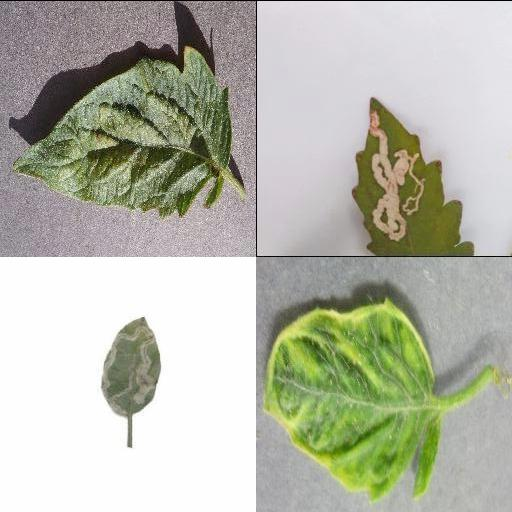Leaf Miner: (350, 97, 475, 256), (103, 316, 161, 417)
Spider Mites: (11, 44, 233, 218)
Yellow Leaf Curl Virus: (262, 297, 442, 501)
